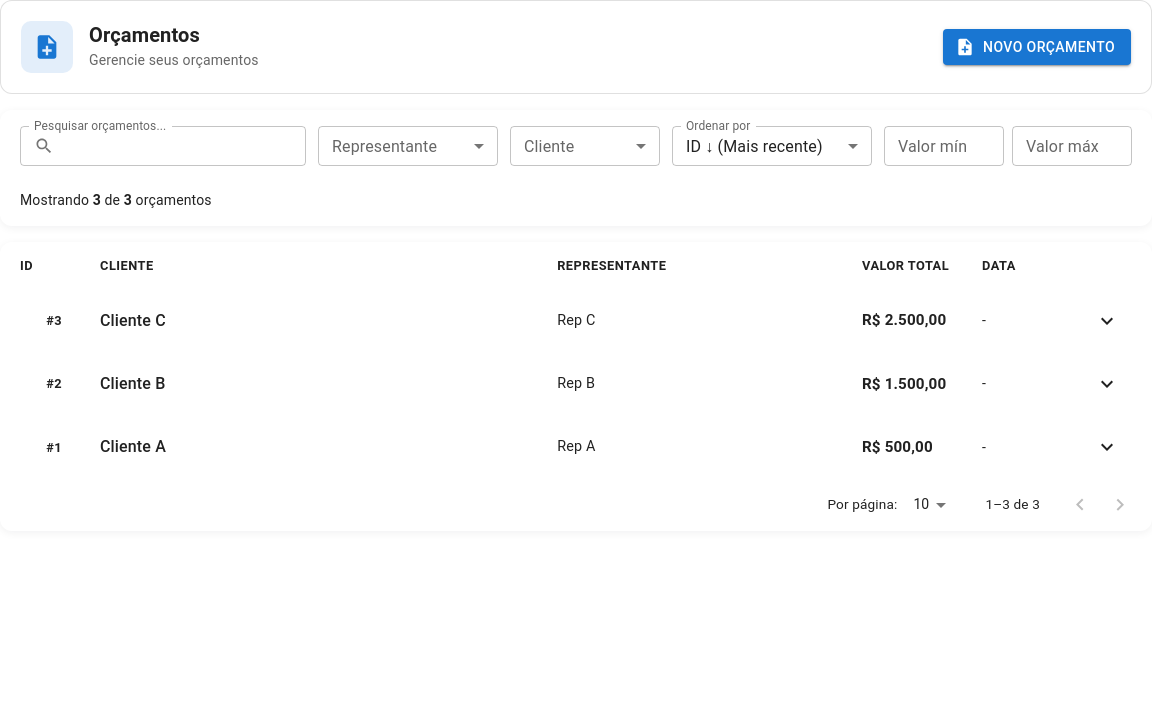
Test: Budgets — filtro de valor em centavos › faixa 1000–2000 (reais) retorna só o orçamento de R$ 1.500 (150000 centavos)
Type "1000" into the number field labelled "Valor mín". click: (944, 146)
box: [884,126,1004,166]
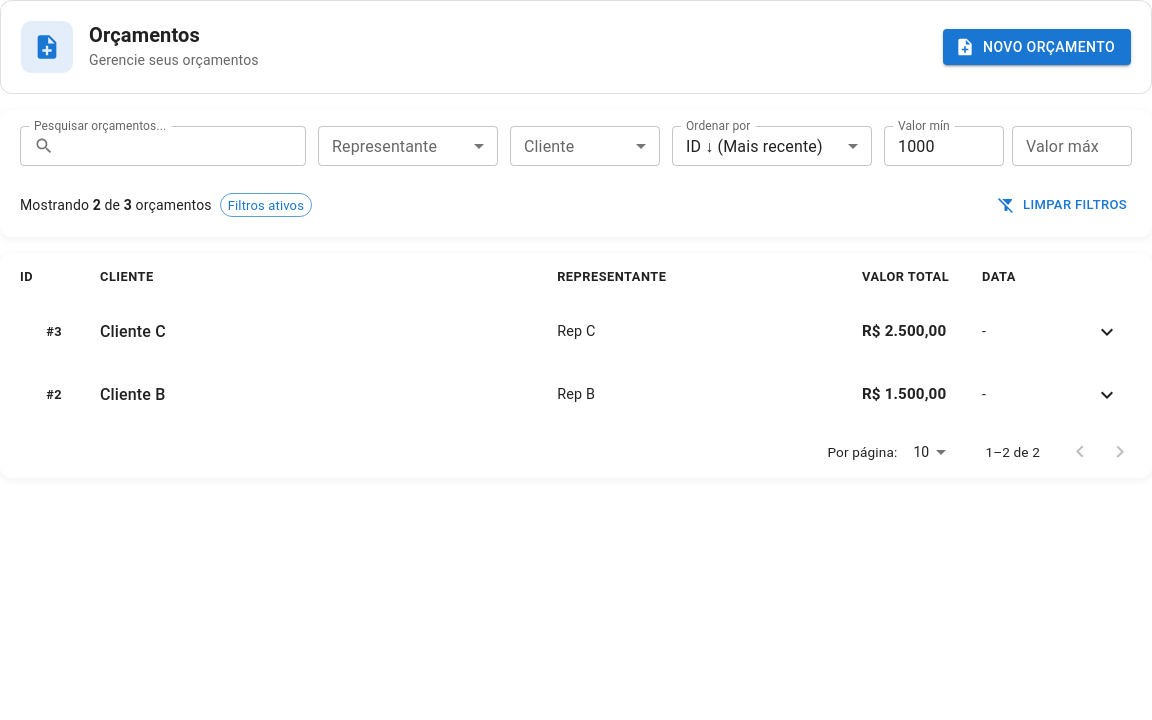
Type "2000" into the number field labelled "Valor máx". click: (1072, 146)
box: [1012,126,1132,166]
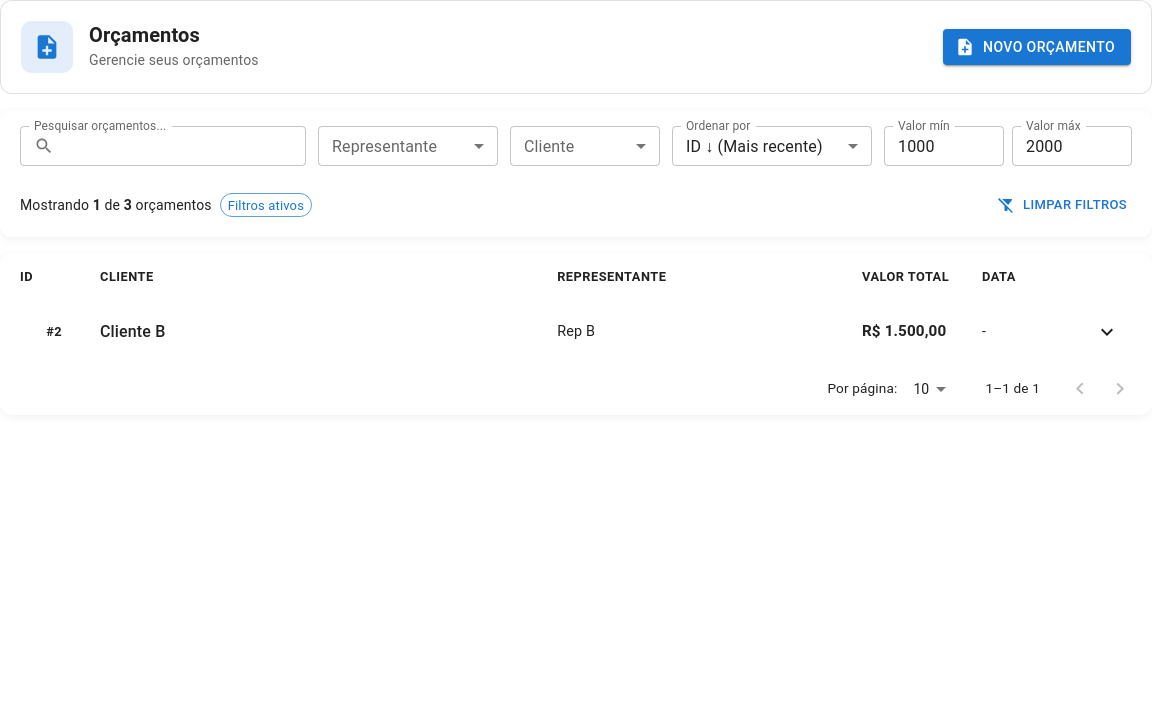
expect the text "#1" is not shown: met
expect the text "#3" is gone: met
